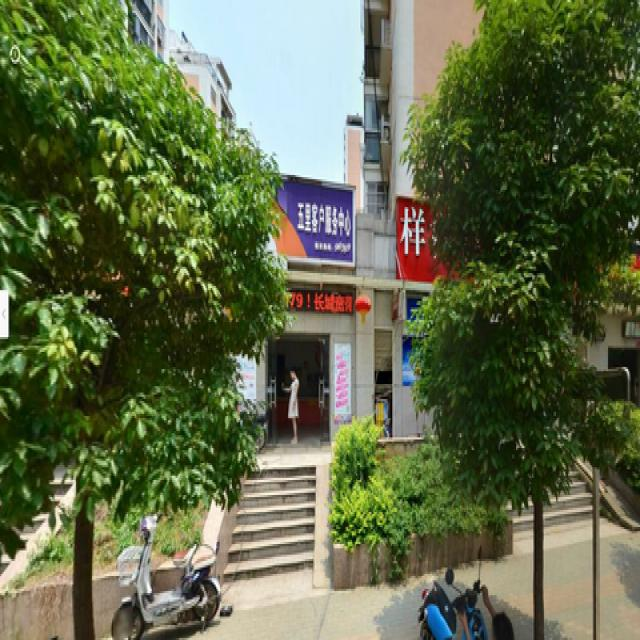cinn: (16, 34, 207, 612), (457, 45, 595, 606)
